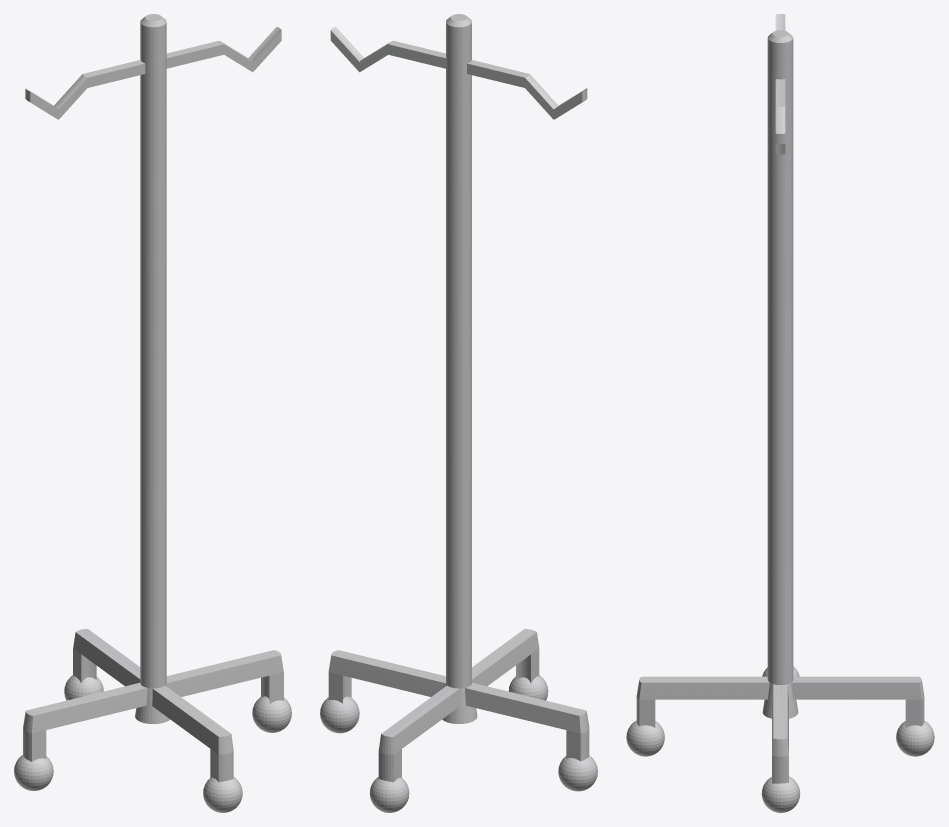
Rendered from IV_stand.fbx.
The picture shows the model from 3 angles, left to right: view 1: azimuth 30°, elevation 25°; view 2: azimuth 150°, elevation 25°; view 3: azimuth 270°, elevation 25°; orthographic projection. The views are drawn at different scales.
Parts seen in each view (by area): view 1: Cylinder; view 2: Cylinder; view 3: Cylinder.
Boxes of the visible parts, x1,y1,x2,y2 form: Cylinder: (14,14,291,812); Cylinder: (320,14,597,812); Cylinder: (626,14,934,812).
Bounding box in the file's own units: 72.54 × 189 × 73.14.
